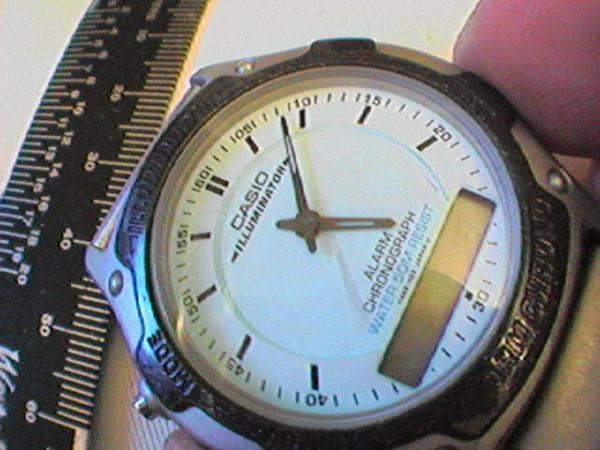watch: (88, 62, 600, 450)
